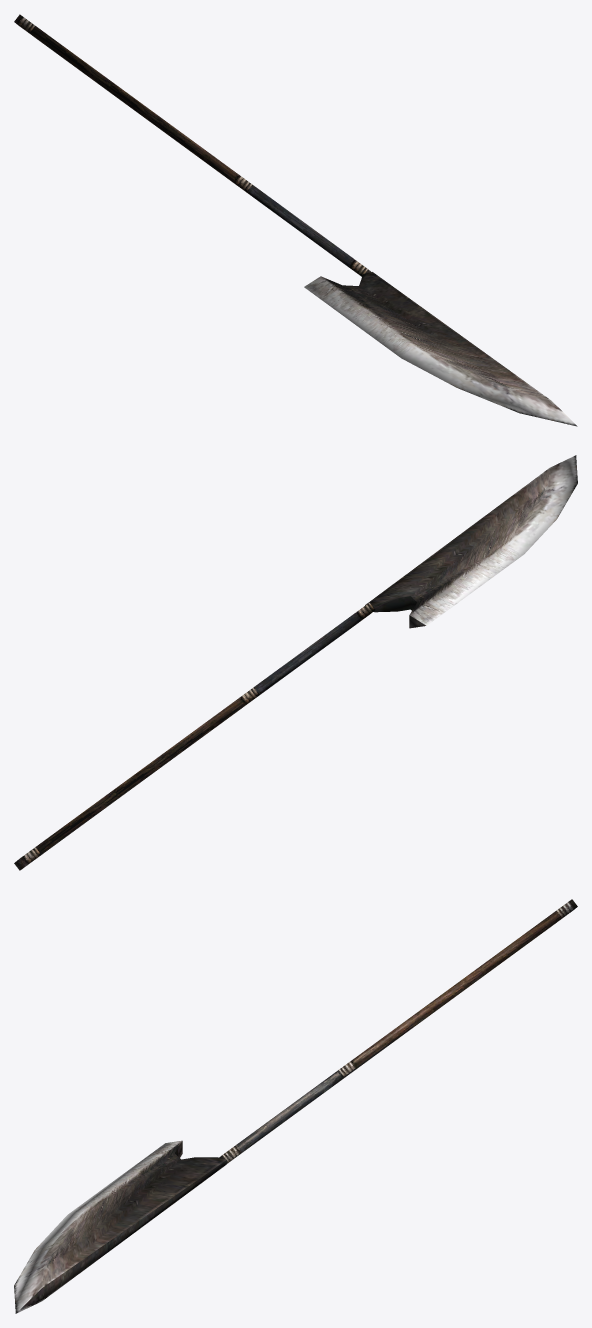
Rendered from tblade_01.glb.
3 renders of one model, top to bottom at view 1: azimuth 30°, elevation 25°; view 2: azimuth 150°, elevation 25°; view 3: azimuth 330°, elevation 25°, orthographic.
Visible parts, largest first — view 1: tblade_01; view 2: tblade_01; view 3: tblade_01.
Part boxes in pixels (x1,y1,x2,y2): tblade_01: (14, 14, 577, 426); tblade_01: (14, 455, 577, 870); tblade_01: (14, 899, 577, 1313).
Size of the model in its own units: 0.1528 by 0.0292 by 2.22.
Materials: 1 (1 with a texture image).
